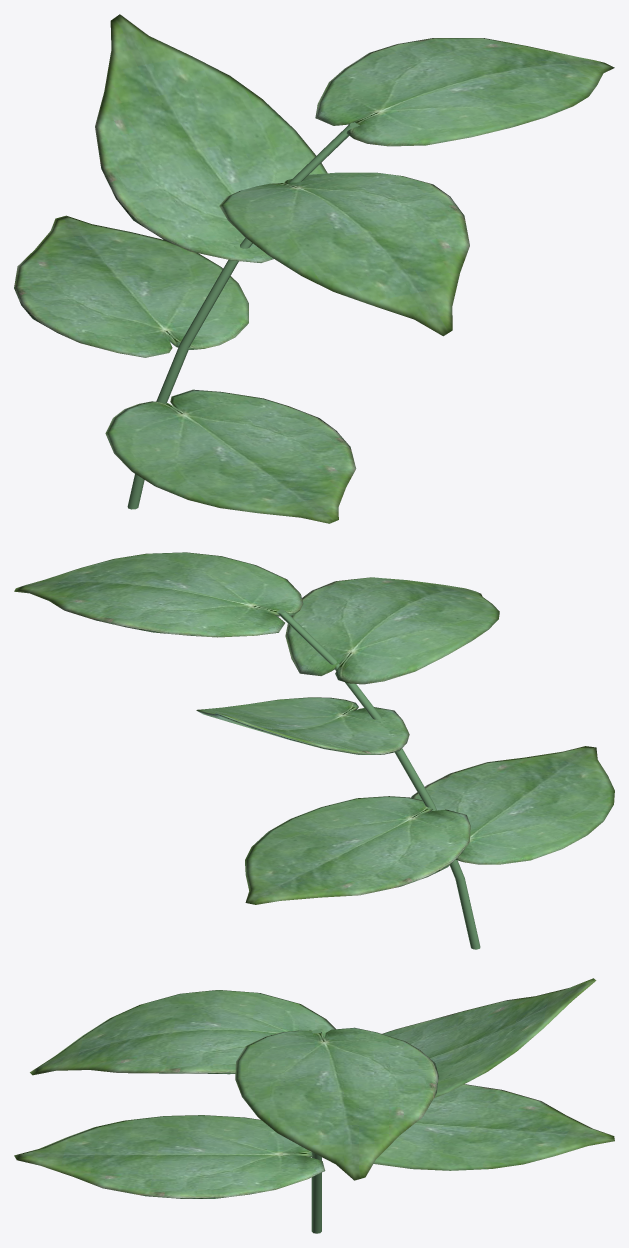
Rendered from yinyanghuo.FBX.
3 renders of one model, top to bottom at view 1: azimuth 30°, elevation 25°; view 2: azimuth 150°, elevation 25°; view 3: azimuth 270°, elevation 25°, orthographic. The views are drawn at different scales.
Parts seen in each view (by area): view 1: Line004, Line003, Line001, Line005, Line002, Cylinder001; view 2: Line002, Line005, Line003, Line001, Line004, Cylinder001; view 3: Line005, Line001, Line003, Line002, Line004, Cylinder001.
Boxes of the visible parts, bbox=[...] form: Line004: bbox=[95, 14, 327, 262]; Line003: bbox=[219, 172, 469, 336]; Line001: bbox=[105, 389, 356, 523]; Line005: bbox=[315, 38, 614, 146]; Line002: bbox=[14, 215, 248, 357]; Cylinder001: bbox=[127, 122, 359, 509]; Line002: bbox=[245, 796, 470, 904]; Line005: bbox=[14, 552, 303, 637]; Line003: bbox=[285, 577, 499, 684]; Line001: bbox=[411, 746, 614, 864]; Line004: bbox=[196, 697, 409, 754]; Cylinder001: bbox=[277, 609, 480, 949]; Line005: bbox=[235, 1027, 438, 1180]; Line001: bbox=[14, 1115, 325, 1198]; Line003: bbox=[30, 990, 335, 1075]; Line002: bbox=[373, 1084, 614, 1170]; Line004: bbox=[382, 978, 596, 1097]; Cylinder001: bbox=[311, 1030, 321, 1233].
Bounding box in the file's own units: 27.3 × 15.91 × 27.64.
1 material, 1 textured.
